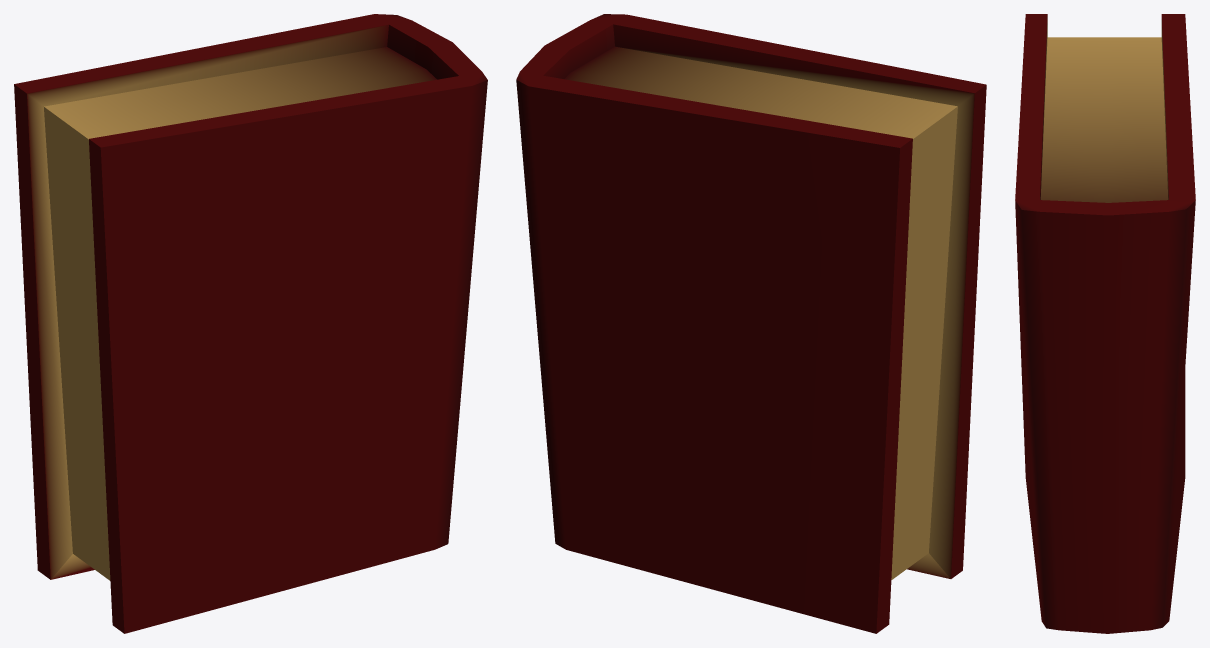
Rendered from Book.fbx.
The picture shows the model from 3 angles, left to right: view 1: azimuth 30°, elevation 25°; view 2: azimuth 150°, elevation 25°; view 3: azimuth 270°, elevation 25°; orthographic projection. The views are drawn at different scales.
Visible parts, largest first — view 1: pCube1; view 2: pCube1; view 3: pCube1.
Boxes of the visible parts, x1,y1,x2,y2 form: pCube1: (14, 14, 487, 633); pCube1: (516, 14, 986, 633); pCube1: (1015, 14, 1195, 633).
Bounding box in the file's own units: 5.95 × 7.04 × 2.55.
